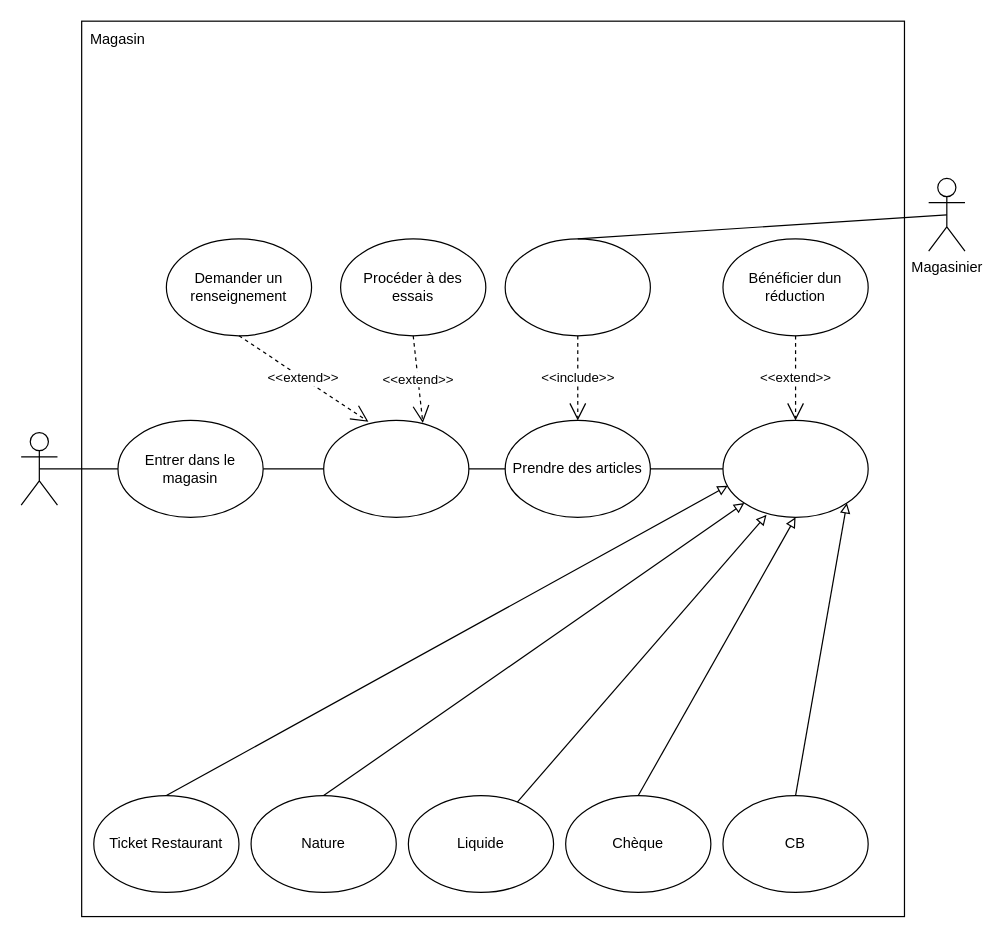
The diagram is 1003 pixels wide and 938 high, and some of its shapes have lost their labels. Each missing label, with the centre of its shape:
"Avoir le stock" goes at [577,287].
"Client" goes at [38,468].
"Passer dans les rayons" goes at [395,468].
"Payer les achats" goes at [795,468].
